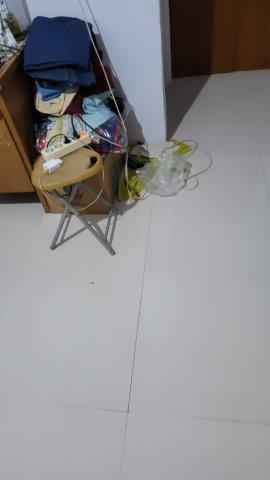plastik: (132, 146, 192, 199)
